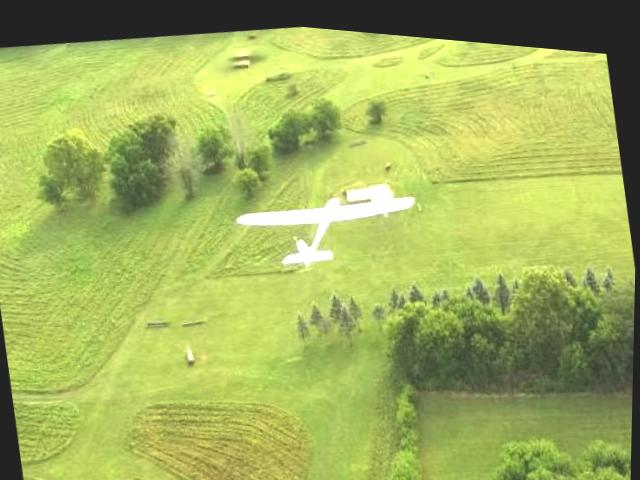uav: (225, 155, 433, 294)
